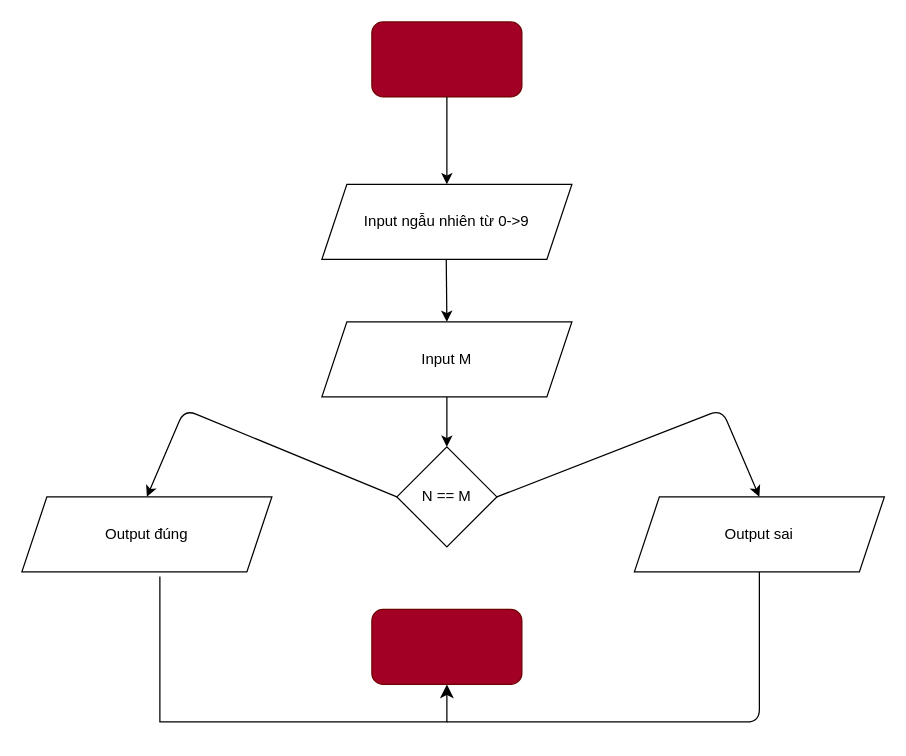
The diagram is 906 pixels wide and 756 high, and some of its shapes have lost their labels. Each missing label, with the centre of its shape:
End: point (446, 646)
Start: point (446, 59)
